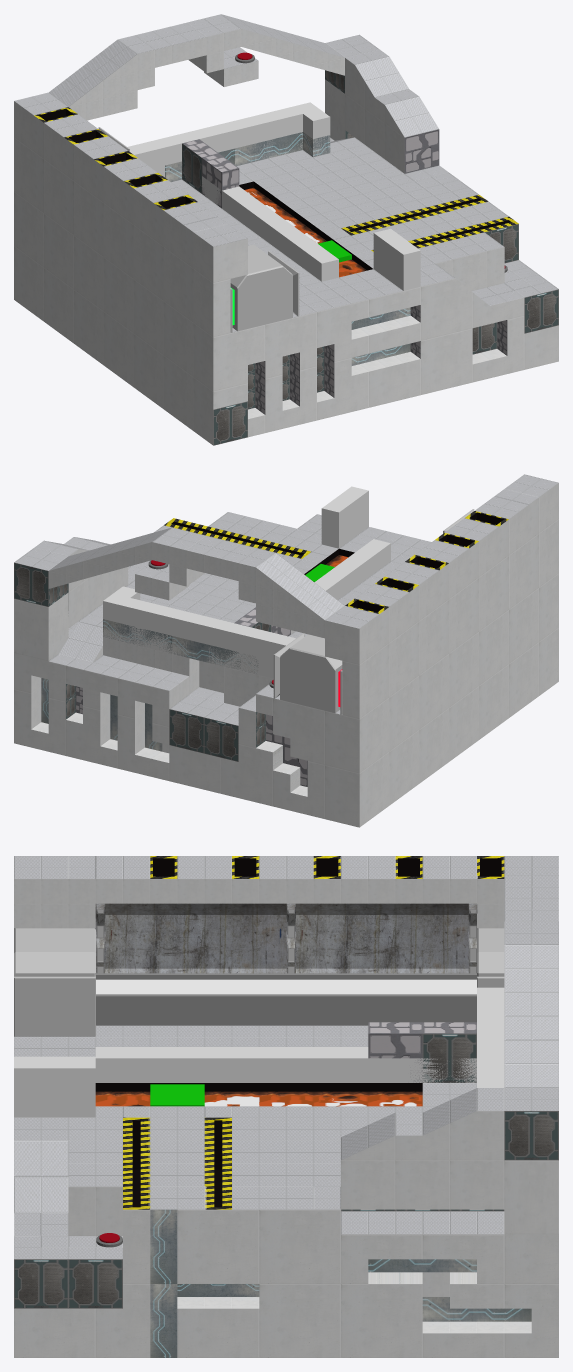
Rendered from Level 1 v2.fbx.
The picture shows the model from 3 angles, top to bottom: view 1: azimuth 30°, elevation 25°; view 2: azimuth 150°, elevation 25°; view 3: azimuth 270°, elevation 25°; orthographic projection. The views are drawn at different scales.
Visible parts, largest first — view 1: Base, Pared final, Modulo movil 1, Pared 3, Horno Salida, Pared 1, Modulo movil 2, Pared 2, Pared 4, Caja 2, Caja 1; view 2: Base, Pared final, Pared 3, Horno, Modulo movil 2, Modulo movil 1, Pared 4, Pared 2, Pared 1; view 3: Base, Pared final, Pared final 2, Cinta transportadora, Modulo movil 1, Pared 1, Horno Salida, Pared 2, Caja 1, Pared 3, Caja 2, Horno (+2 smaller).
Part boxes in pixels (x1,y1,x2,y2): Base: (14,14,558,445); Pared final: (14,31,247,337); Modulo movil 1: (345,49,439,173); Pared 3: (127,102,330,177); Horno Salida: (230,244,299,332); Pared 1: (182,164,338,281); Modulo movil 2: (152,22,258,86); Pared 2: (373,228,420,290); Pared 4: (165,132,330,181); Caja 2: (202,154,239,208); Caja 1: (182,139,218,193); Base: (14,512,558,827); Pared final: (221,474,558,718); Pared 3: (103,586,295,678); Horno: (273,633,342,714); Modulo movil 2: (135,536,240,600); Modulo movil 1: (34,537,128,627); Pared 4: (103,619,258,673); Pared 2: (321,486,368,548); Pared 1: (271,539,390,633); Base: (14,921,558,1357); Pared final: (14,856,558,928); Pared final 2: (95,903,477,973); Cinta transportadora: (96,973,476,1025); Modulo movil 1: (341,1088,504,1209); Pared 1: (95,1047,476,1082); Horno Salida: (14,928,95,1036); Pared 2: (14,1056,95,1117); Caja 1: (422,1022,476,1082); Pared 3: (477,987,504,1087); Caja 2: (368,1022,422,1082); Horno: (477,928,504,987).
Size of the model in its own units: 2000 by 1300 by 2000.
